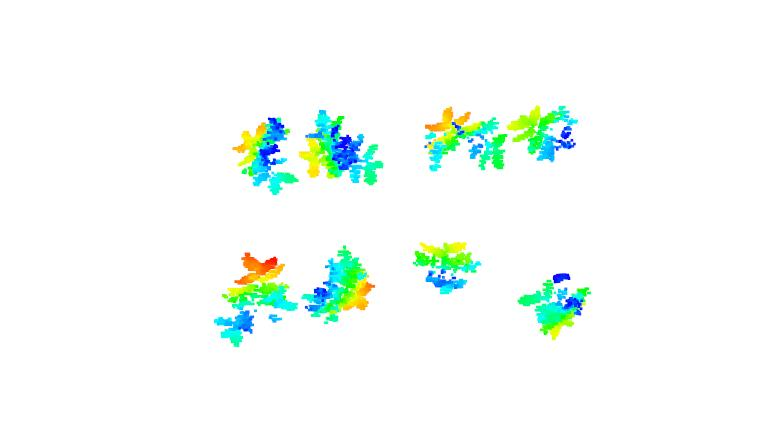chickpea: (214, 253, 299, 345), (301, 108, 382, 187), (420, 104, 506, 176), (231, 115, 300, 196), (303, 247, 372, 324), (516, 269, 589, 340), (508, 103, 579, 165), (416, 241, 480, 294)
